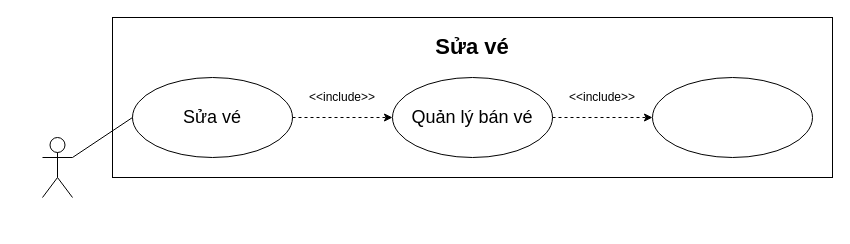
This 850x244 diagram has some shape labels left out. The centre of each missing label's shape, as x and y in pixels:
Login: (732,117)
Nhân viên: (57,167)
